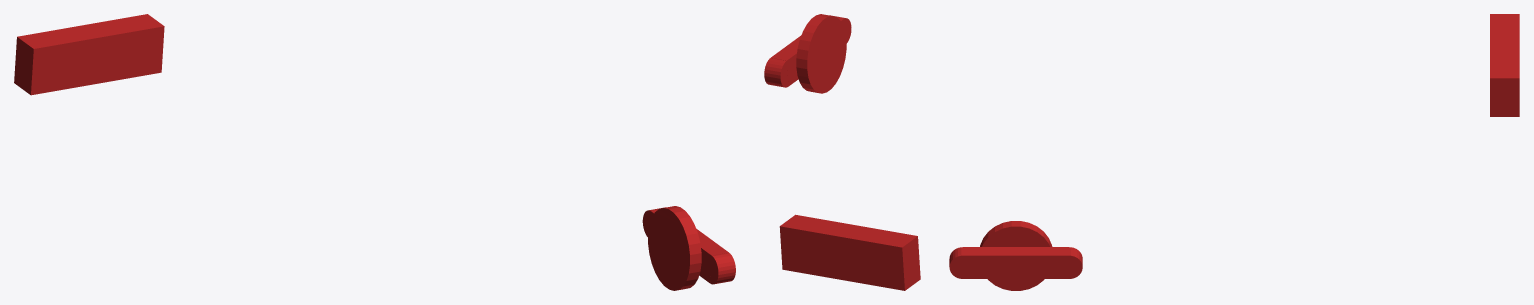
3 views of the same model, side by side, from view 1: azimuth 30°, elevation 25°; view 2: azimuth 150°, elevation 25°; view 3: azimuth 270°, elevation 25° (orthographic). The views are drawn at different scales.
Visible parts, largest first — view 1: part_0000; view 2: part_0000; view 3: part_0000.
Boxes of the visible parts, left/top/right/bottom form: part_0000: left=14, top=14, right=735, bottom=290; part_0000: left=764, top=14, right=920, bottom=290; part_0000: left=949, top=14, right=1519, bottom=290.
Size of the model in its own units: 0.2741 by 0.0862 by 0.385.
